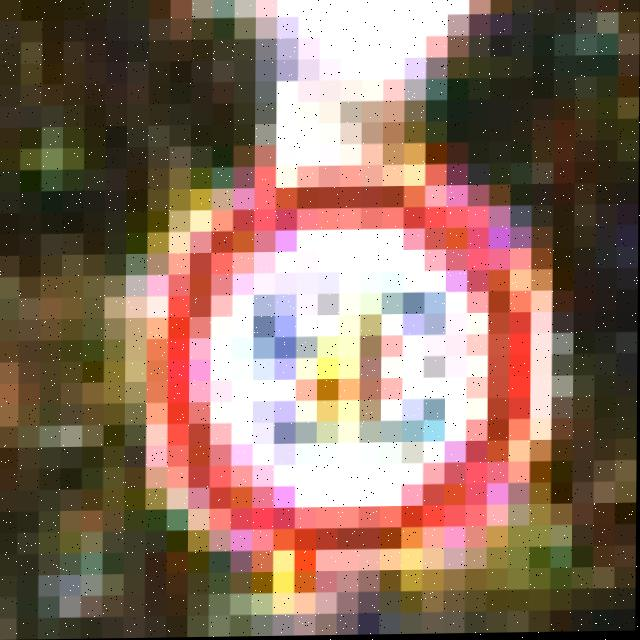speed_limit_50: (141, 162, 598, 594)
